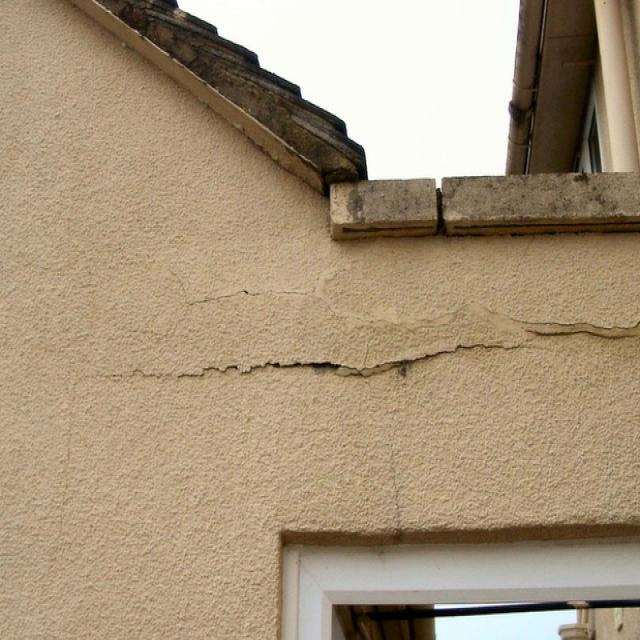Crack: (133, 308, 639, 395), (173, 269, 354, 303)
